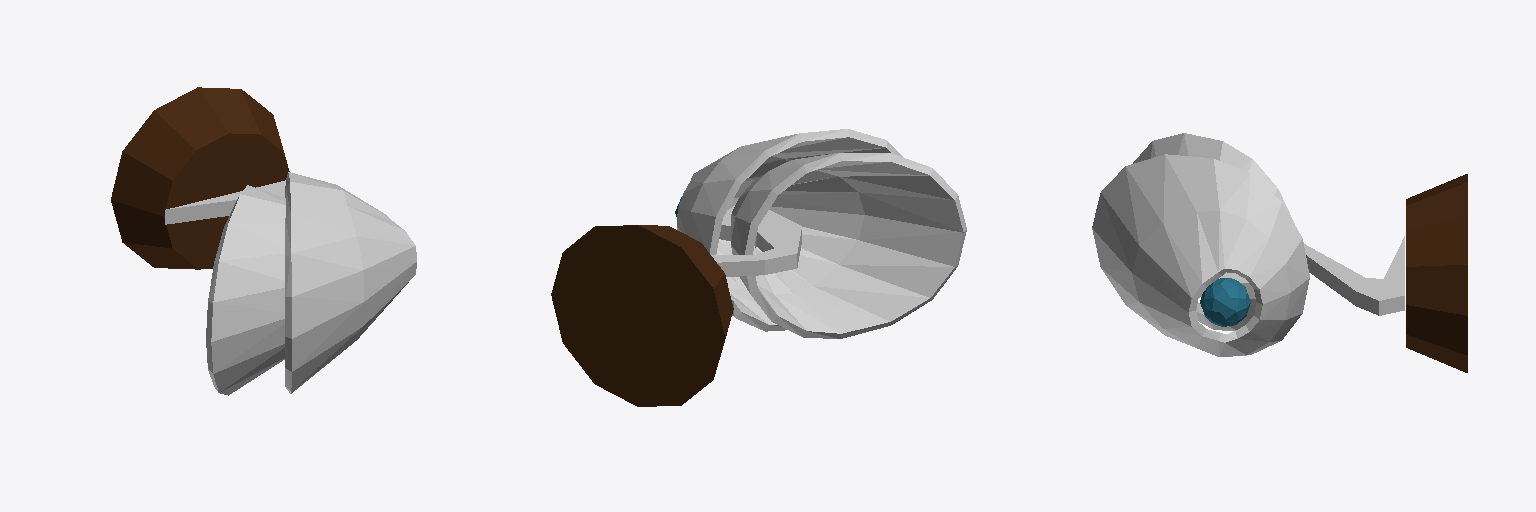
3 views of the same model, side by side, from view 1: azimuth 30°, elevation 25°; view 2: azimuth 150°, elevation 25°; view 3: azimuth 270°, elevation 25° (orthographic).
Parts seen in each view (by area): view 1: Cylinder_Cylinder_Material.001, Cone_Cone_cover, Cone.001_Cone.001_cover, Plane_Plane_Material.003; view 2: Cone.001_Cone.001_cover, Cylinder_Cylinder_Material.001, Cone_Cone_cover, Plane_Plane_Material.003; view 3: Cone_Cone_cover, Cylinder_Cylinder_Material.001, Plane_Plane_Material.003, Cone.001_Cone.001_cover, Icosphere_Icosphere_ball.
Part boxes in pixels (bbox=[...]): Cylinder_Cylinder_Material.001: bbox=[111, 87, 289, 269]; Cone_Cone_cover: bbox=[285, 172, 416, 393]; Cone.001_Cone.001_cover: bbox=[206, 185, 285, 395]; Plane_Plane_Material.003: bbox=[165, 180, 285, 224]; Cone.001_Cone.001_cover: bbox=[730, 153, 966, 338]; Cylinder_Cylinder_Material.001: bbox=[551, 225, 733, 406]; Cone_Cone_cover: bbox=[677, 129, 902, 331]; Plane_Plane_Material.003: bbox=[711, 206, 801, 315]; Cone_Cone_cover: bbox=[1092, 154, 1309, 356]; Cylinder_Cylinder_Material.001: bbox=[1406, 174, 1467, 372]; Plane_Plane_Material.003: bbox=[1201, 236, 1404, 315]; Cone.001_Cone.001_cover: bbox=[1133, 133, 1294, 330]; Icosphere_Icosphere_ball: bbox=[1200, 278, 1250, 326].
Bounding box in the file's own units: 1.57 × 1.2 × 2.08.
4 materials, 1 textured.